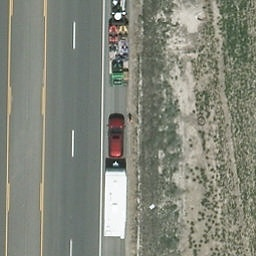camping car: (101, 168, 127, 236)
car: (108, 114, 125, 158)
